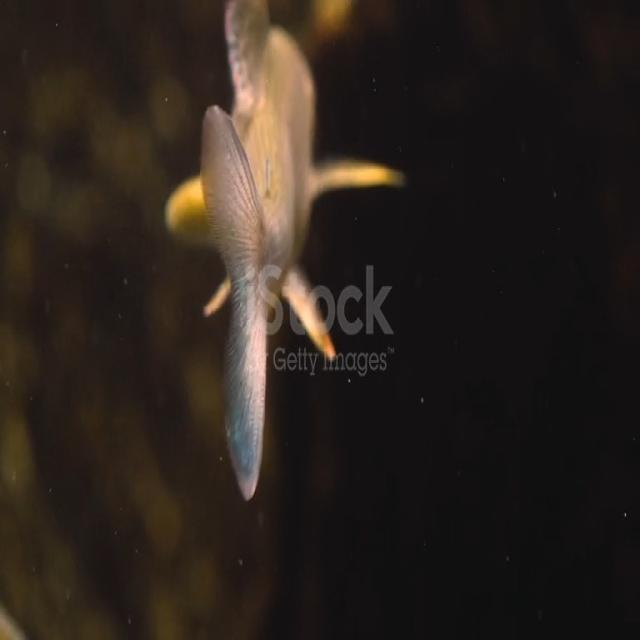fish: (162, 1, 410, 511)
